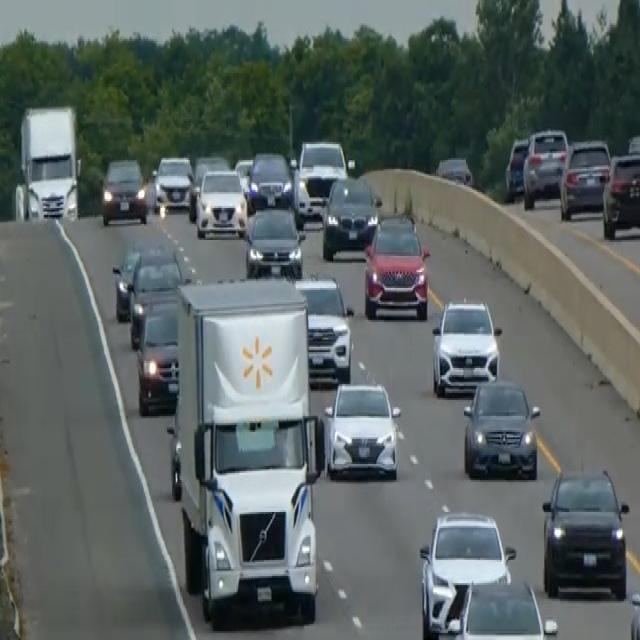car: (418, 508, 516, 638), (541, 464, 629, 599), (462, 377, 541, 480), (322, 379, 401, 480), (430, 295, 501, 397), (363, 212, 430, 320), (452, 576, 558, 638), (293, 274, 353, 382), (112, 242, 182, 324), (134, 295, 180, 414), (320, 174, 381, 260), (243, 205, 305, 278), (558, 137, 611, 220), (296, 137, 352, 211), (522, 126, 568, 208), (194, 167, 247, 238), (601, 149, 639, 240), (100, 154, 148, 226), (245, 150, 296, 212), (187, 153, 229, 219), (111, 244, 141, 322), (153, 153, 193, 210), (504, 135, 529, 201), (435, 154, 473, 187)
lorry: (167, 274, 324, 626)
